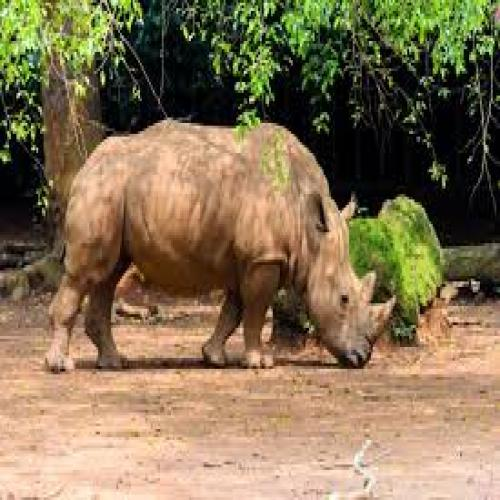rhino-endangered: (44, 113, 397, 374)
